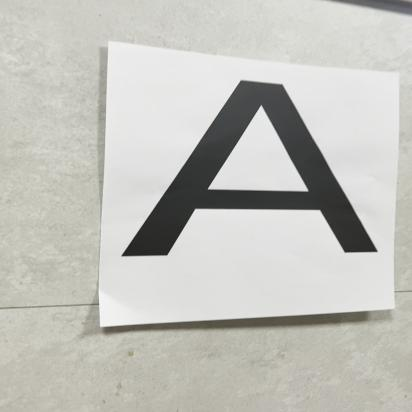seat: (114, 67, 403, 293)
